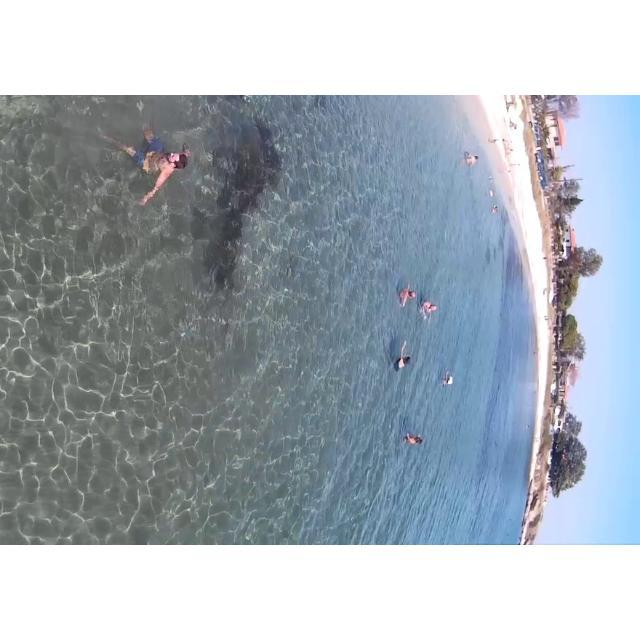human: (135, 115, 195, 204), (386, 331, 415, 378), (396, 424, 426, 454), (393, 276, 419, 310), (417, 291, 441, 325), (440, 368, 453, 389), (69, 95, 135, 99)
